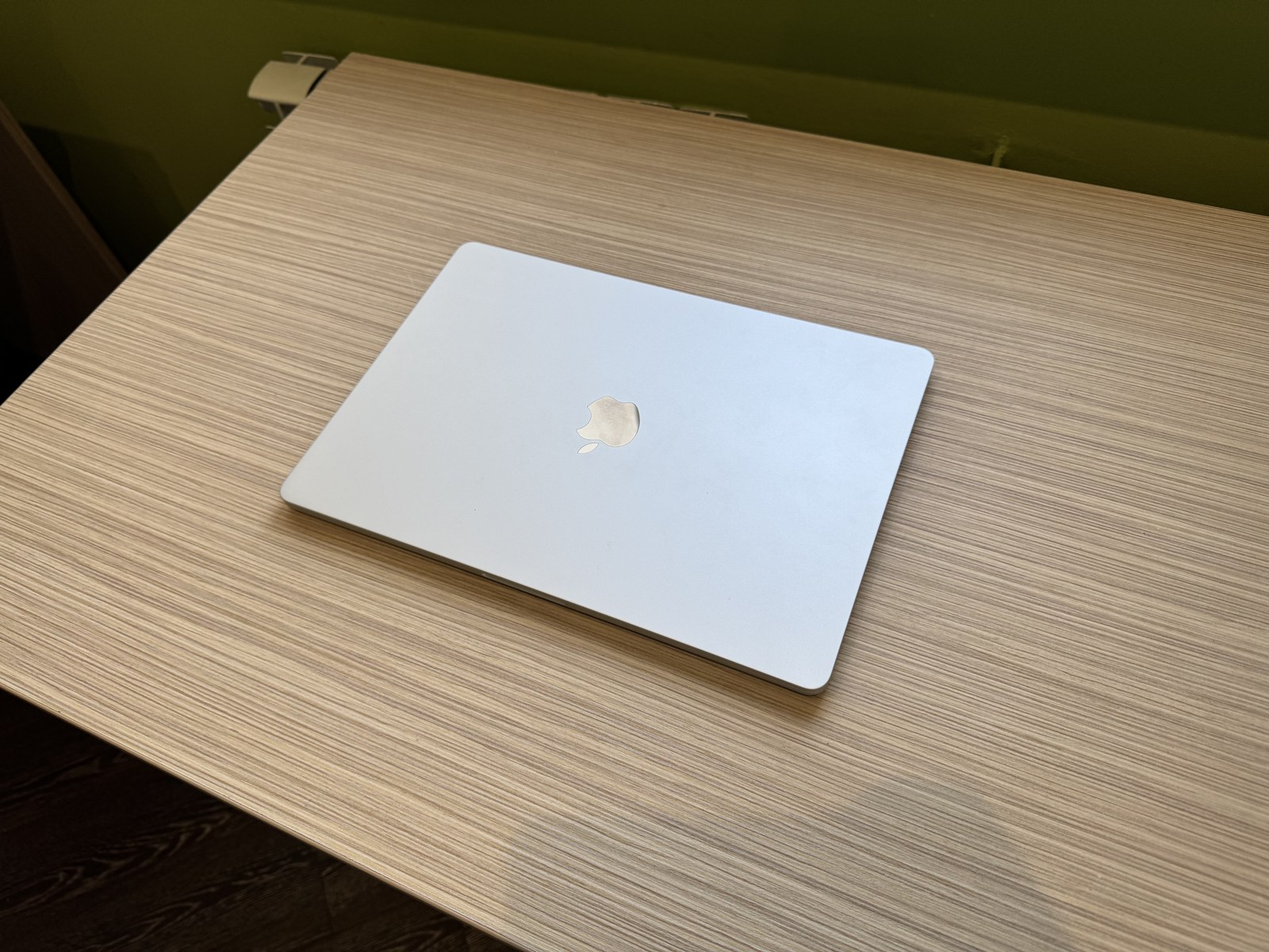laptop: (279, 240, 936, 695)
